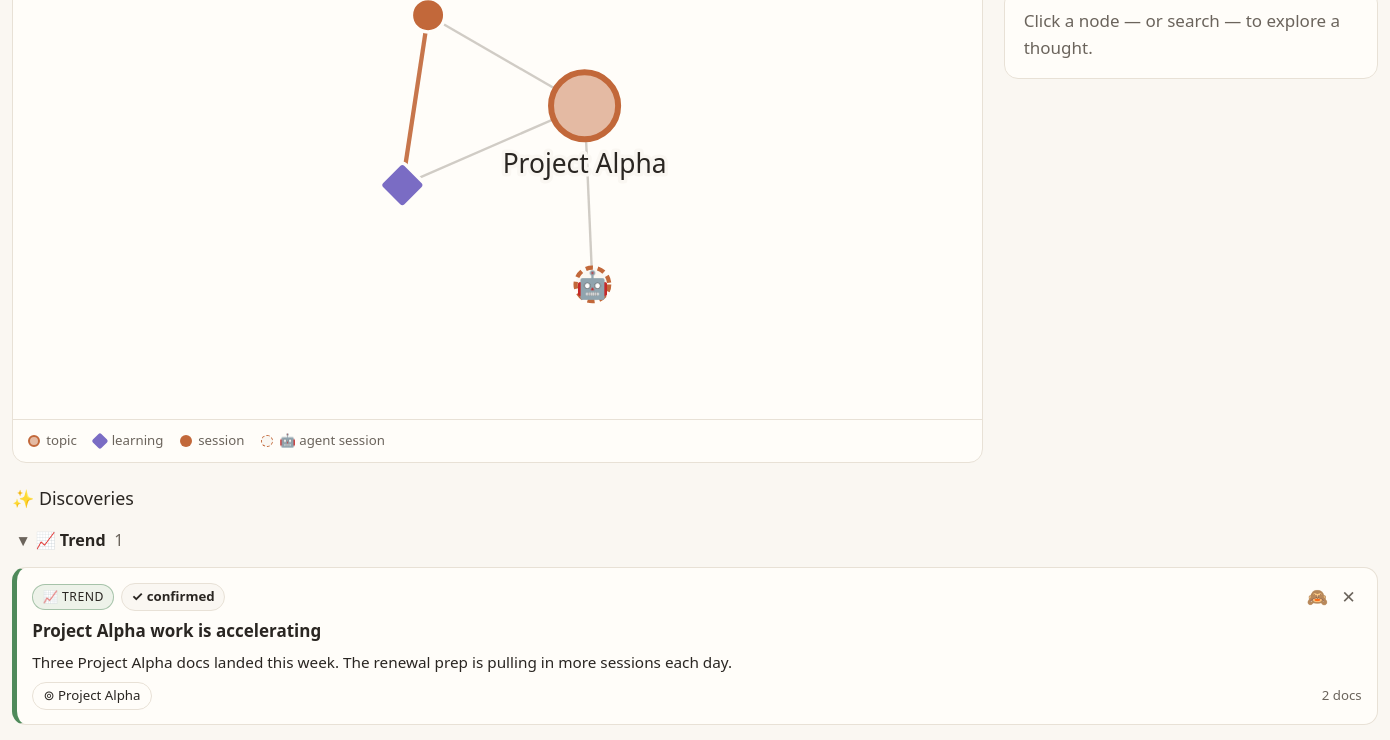
Scenario: BrainView discoveries › dismisses a discovery optimistically
(page scrolled)
Click the button named "Dismiss (permanent): Project Alpha work is accelerating" at {"x": 1349, "y": 597}, box x1=1336 y1=582 x2=1362 y2=612
(page scrolled)
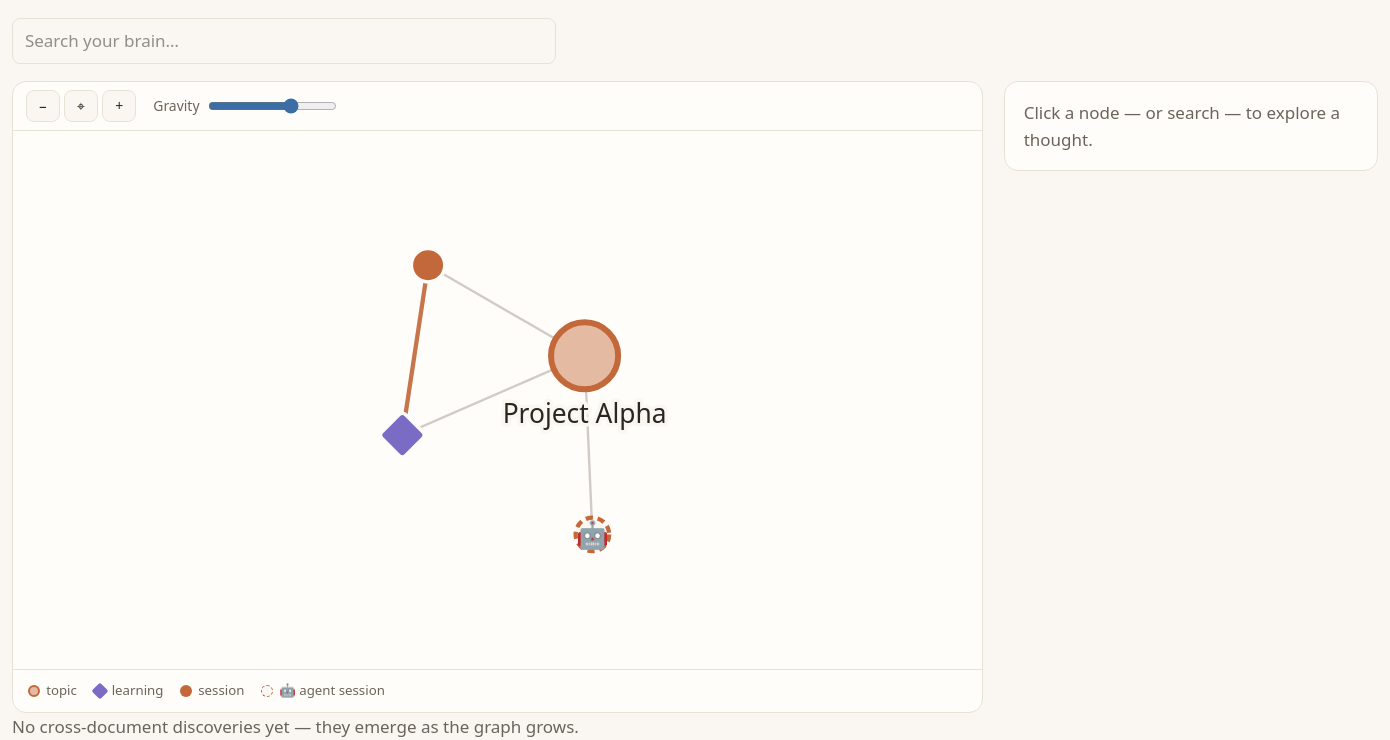
Check: the button "Project Alpha work is accelerating" is gone
